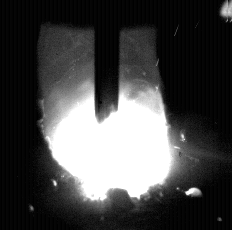arame: (95, 0, 121, 124)
poca: (45, 0, 171, 230)
